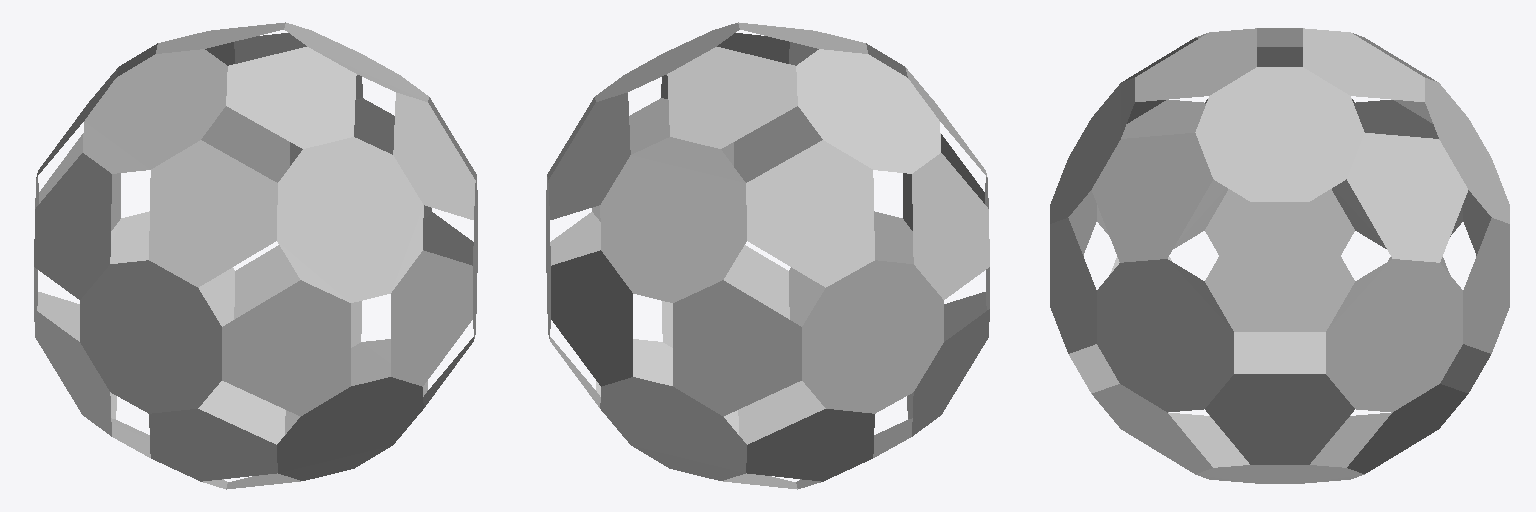
The model's file is dodc.obj.
3 views of the same model, side by side, from view 1: azimuth 30°, elevation 25°; view 2: azimuth 150°, elevation 25°; view 3: azimuth 270°, elevation 25° (orthographic).
Visible parts, largest first — view 1: dodc, dodc.001; view 2: dodc, dodc.001; view 3: dodc, dodc.001.
Boxes of the visible parts, box(x1,y1,x2,y2) form: dodc: box(34, 22, 477, 489); dodc.001: box(34, 23, 477, 488); dodc: box(546, 23, 989, 488); dodc.001: box(546, 22, 989, 489); dodc: box(1050, 28, 1509, 483); dodc.001: box(1050, 28, 1509, 483).
Size of the model in its own units: 1.95 by 1.95 by 1.95.